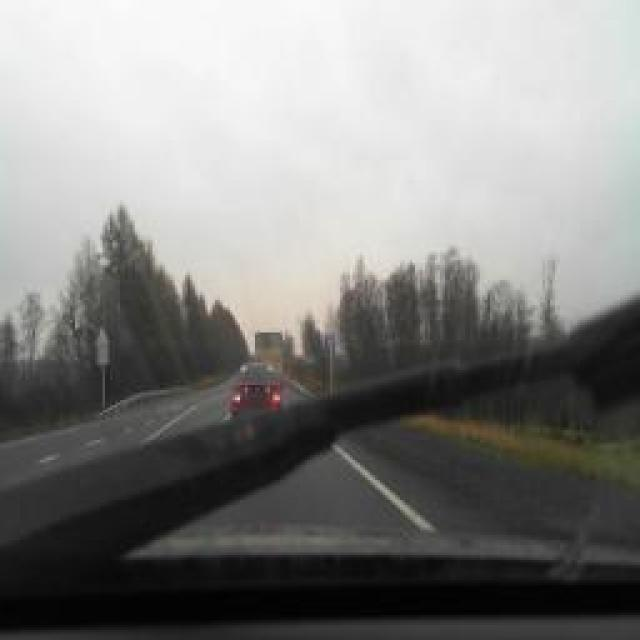sign: (325, 335, 335, 353)
